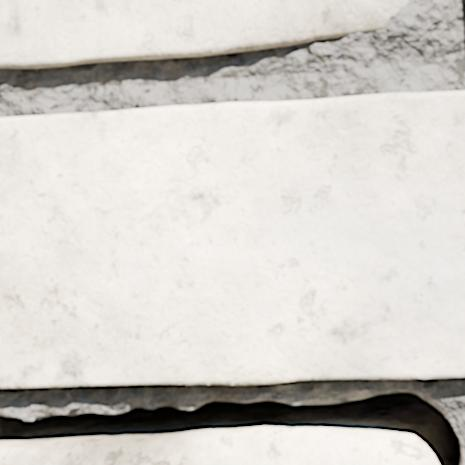brick: (0, 91, 464, 388), (0, 0, 407, 67), (0, 439, 420, 464)
crack: (0, 390, 464, 464)
